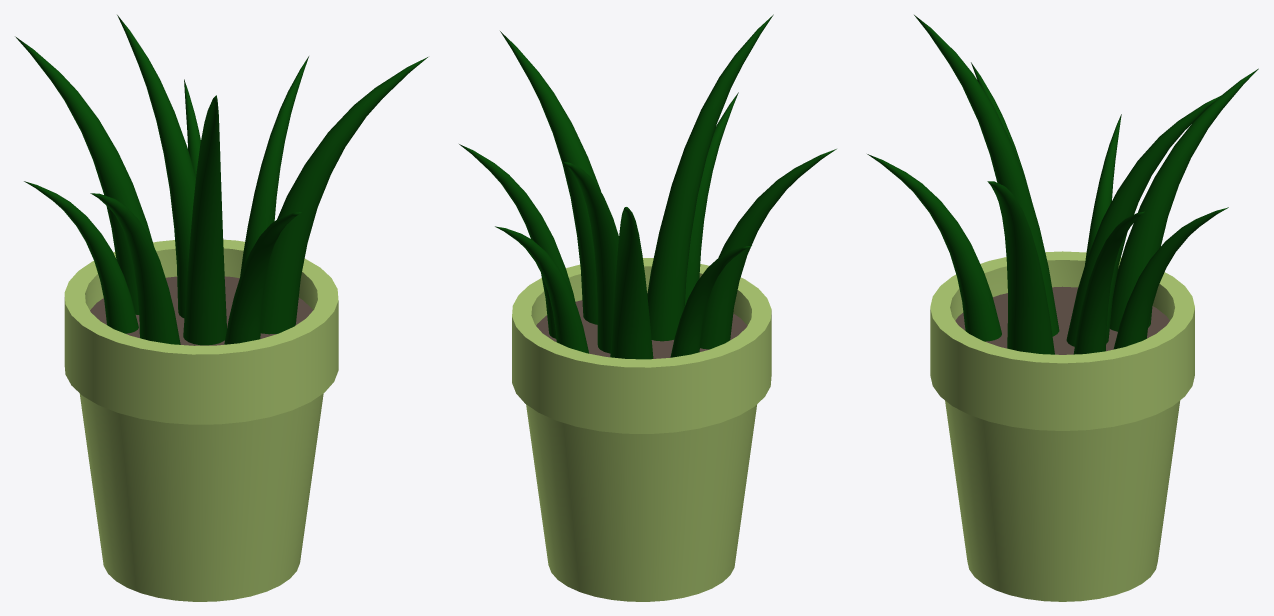
The model's file is Plante6_5.fbx.
The picture shows the model from 3 angles, left to right: view 1: azimuth 30°, elevation 25°; view 2: azimuth 150°, elevation 25°; view 3: azimuth 270°, elevation 25°; orthographic projection. The views are drawn at different scales.
Parts seen in each view (by area): view 1: pCylinder717, pCone5, pCone7, pCone4, pCone9, pCone2, pCone3, pCone1, pCone8, pCylinder721, pCone6; view 2: pCylinder717, pCone7, pCone5, pCone2, pCone4, pCone9, pCone6, pCone8, pCone3, pCone1, pCylinder721; view 3: pCylinder717, pCone4, pCone5, pCone7, pCone1, pCone9, pCone8, pCone6, pCylinder721, pCone3.
Part boxes in pixels (box(x1,y1,x2,y2)): pCylinder717: box(64, 239, 338, 601); pCone5: box(260, 57, 427, 334); pCone7: box(183, 95, 226, 345); pCone4: box(15, 36, 153, 314); pCone9: box(117, 15, 195, 317); pCone2: box(90, 193, 180, 344); pCone3: box(24, 181, 138, 333); pCone1: box(224, 212, 301, 344); pCone8: box(240, 56, 308, 275); pCylinder721: box(90, 276, 312, 345); pCone6: box(184, 79, 200, 176); pCylinder717: box(512, 258, 771, 601); pCone7: box(647, 14, 773, 341); pCone5: box(500, 31, 600, 324); pCone2: box(700, 149, 836, 349); pCone4: box(610, 207, 653, 359); pCone9: box(563, 161, 618, 353); pCone6: box(495, 226, 589, 353); pCone8: box(459, 144, 575, 338); pCone3: box(670, 245, 751, 357); pCone1: box(684, 92, 738, 306); pCylinder721: box(536, 292, 747, 358); pCylinder717: box(930, 251, 1194, 601); pCone4: box(1110, 68, 1258, 331); pCone5: box(987, 181, 1054, 354); pCone7: box(914, 15, 1059, 336); pCone1: box(867, 154, 1001, 341); pCone9: box(1066, 94, 1223, 346); pCone8: box(1073, 211, 1144, 354); pCone6: box(1113, 207, 1228, 349); pCylinder721: box(955, 286, 1169, 354); pCone3: box(1085, 114, 1121, 264).
Size of the model in its own units: 16.41 by 24.2 by 16.64.
